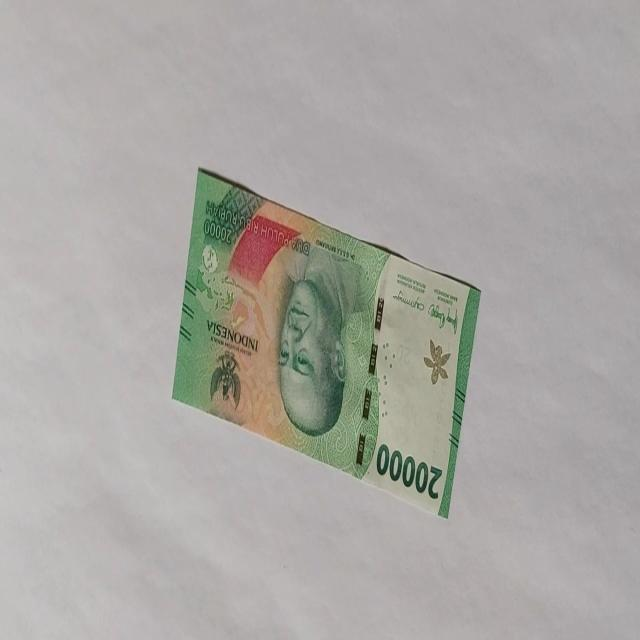dua puluh ribu rupiah: (170, 165, 482, 520), (275, 243, 362, 438)
